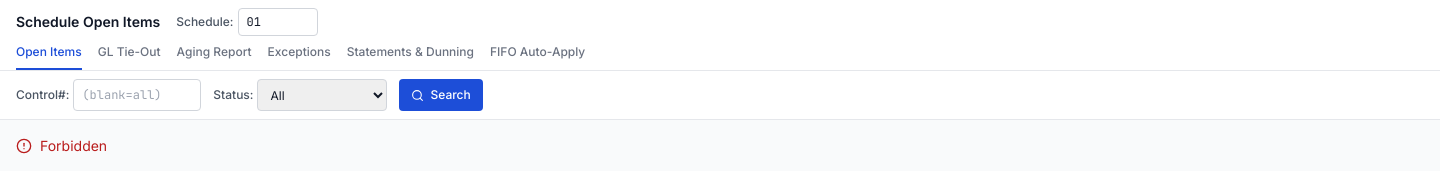
Test: ScheduleOpenItems — CE-08 ceremony actions › S028 FIFO Auto-Apply: surfaces a permission-denied (403) error without fabricating data
Click the button with test id "auto-apply-tab-button" at (538, 57), box [490,44,585,70]
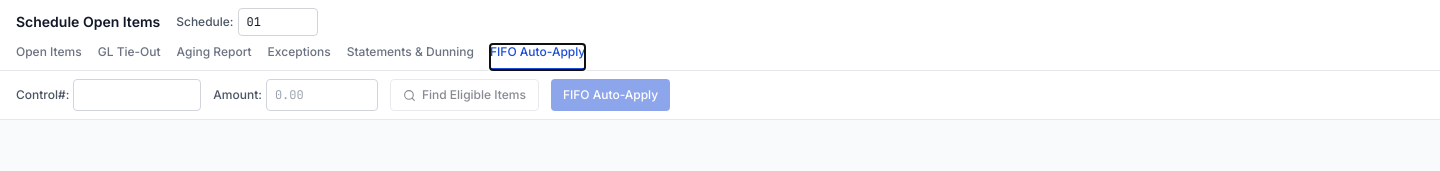
Type "CUST1" into the field with test id "auto-apply-control-input" at (137, 95), box [73,79,201,111]
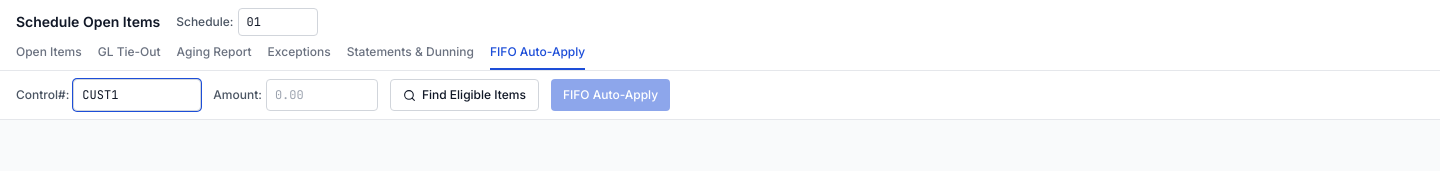
Click the button with test id "auto-apply-search-button" at (464, 95), box [390,79,539,111]
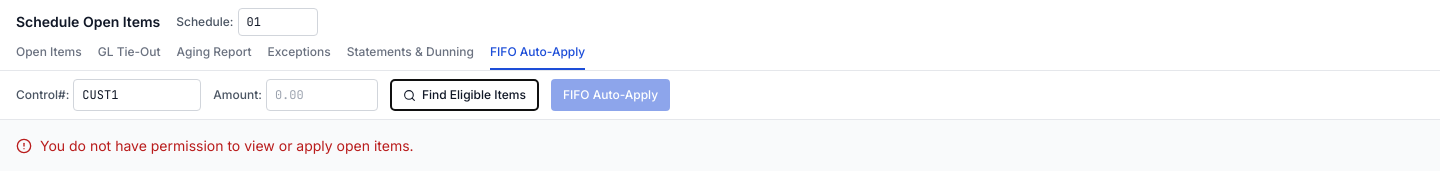
Check: the element with test id "auto-apply-error-banner" shows "permission", box [40,137,414,154]
